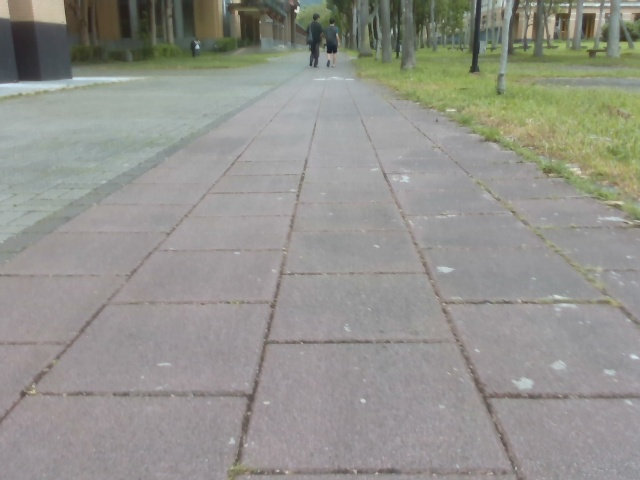grass: (339, 41, 639, 217), (300, 0, 479, 72), (73, 41, 308, 89)
road: (0, 53, 639, 479)
sidewalk: (0, 49, 306, 239)
